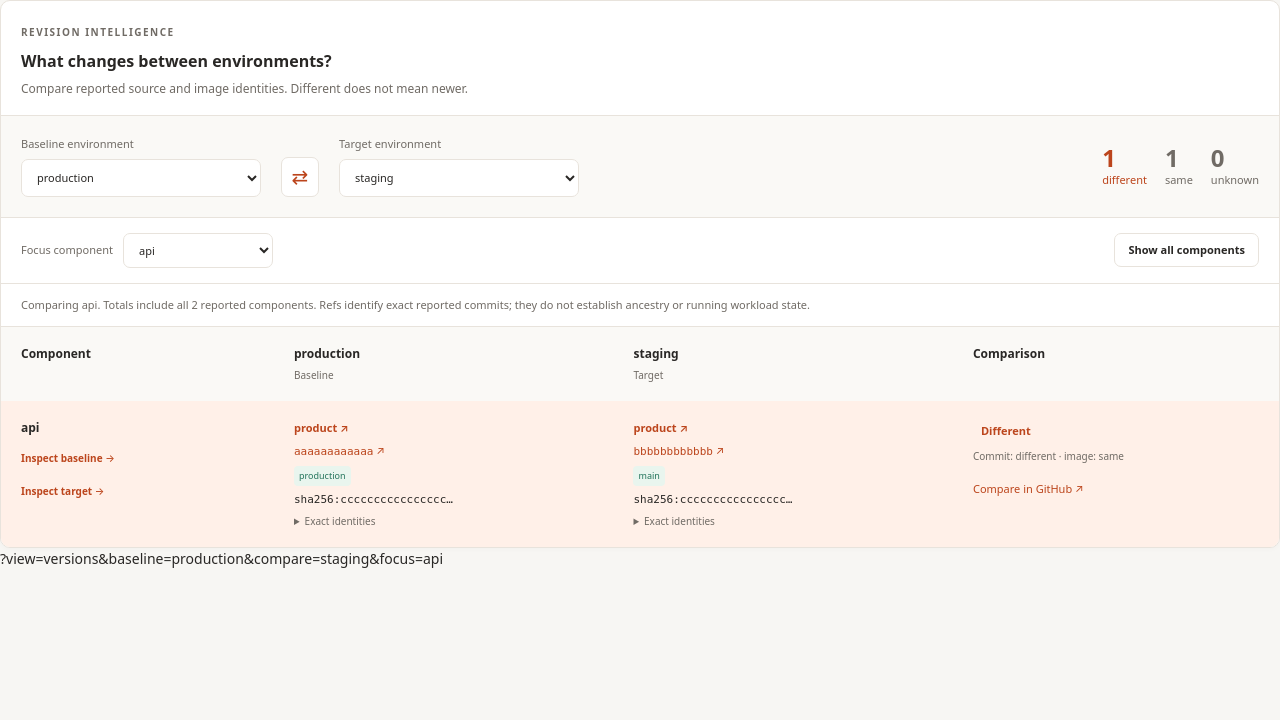
Test: restores a focused counterpart comparison, swaps identities and can return to all components
The width and height of the screenshot is (1280, 720).
Expected: the dropdown labelled "Focus component" shows "api", [123, 232, 273, 268]
Click the button "Inspect baseline →".
click(68, 458)  # box [21, 446, 115, 470]
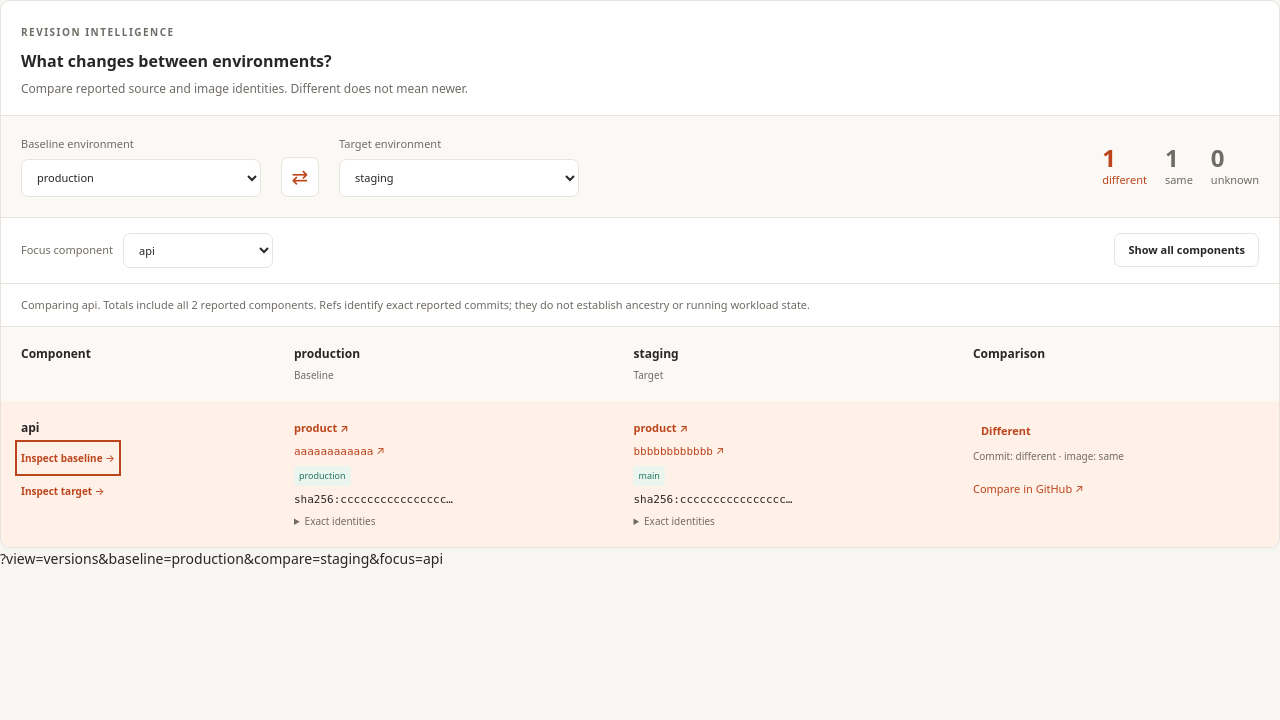
Click the button named "Swap environments".
click(300, 176)  # box [281, 156, 319, 196]
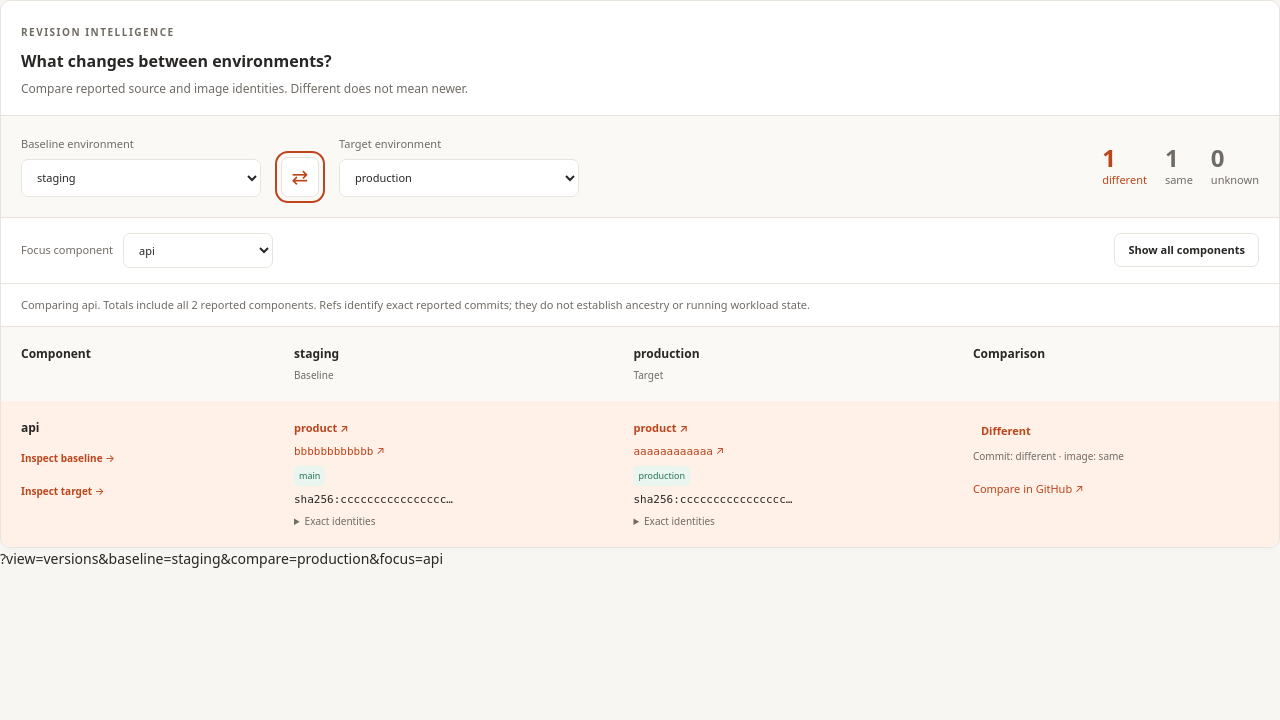
Expected: the text named "Version address" reads "?view=versions&baseline=staging&compare=production&focus=api", [0, 549, 443, 568]
Click the button "Show all components".
click(1187, 250)  # box [1114, 233, 1259, 267]
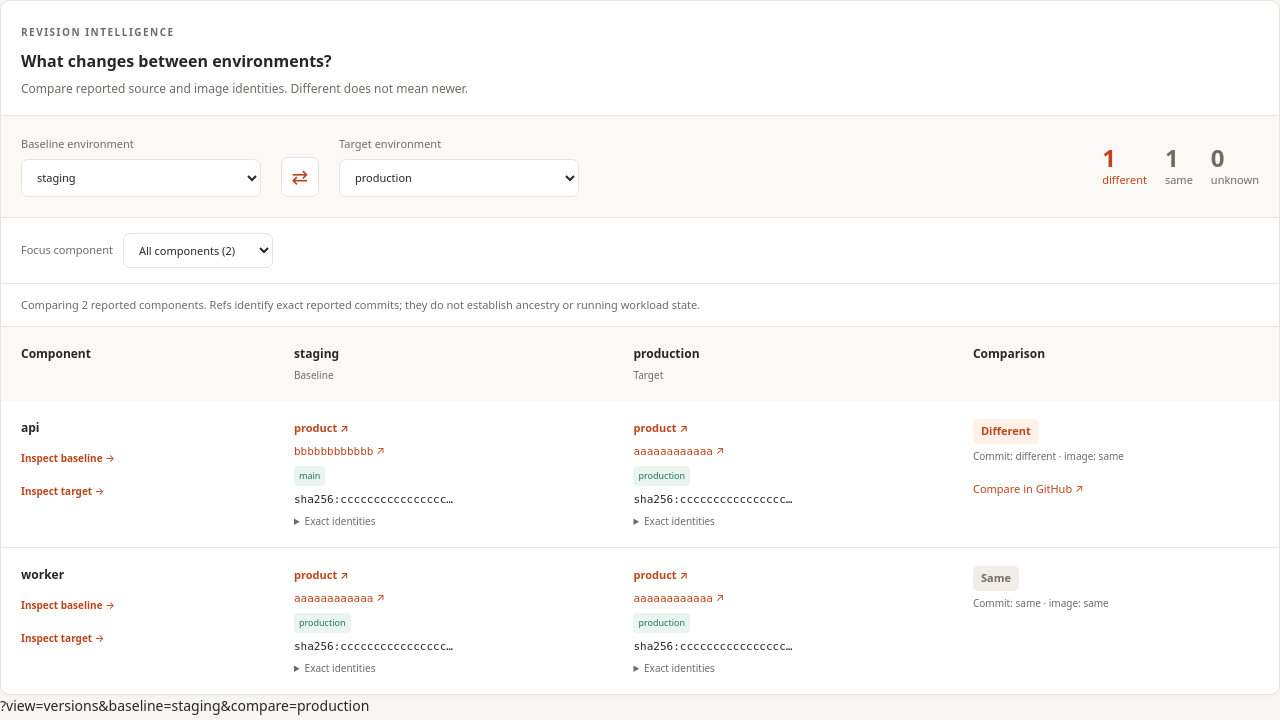
Expected: the text labelled "Version address" no longer shows "focus="
